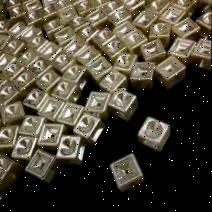cube: (111, 155, 145, 194), (139, 117, 171, 156), (155, 59, 186, 93), (109, 93, 138, 126)
